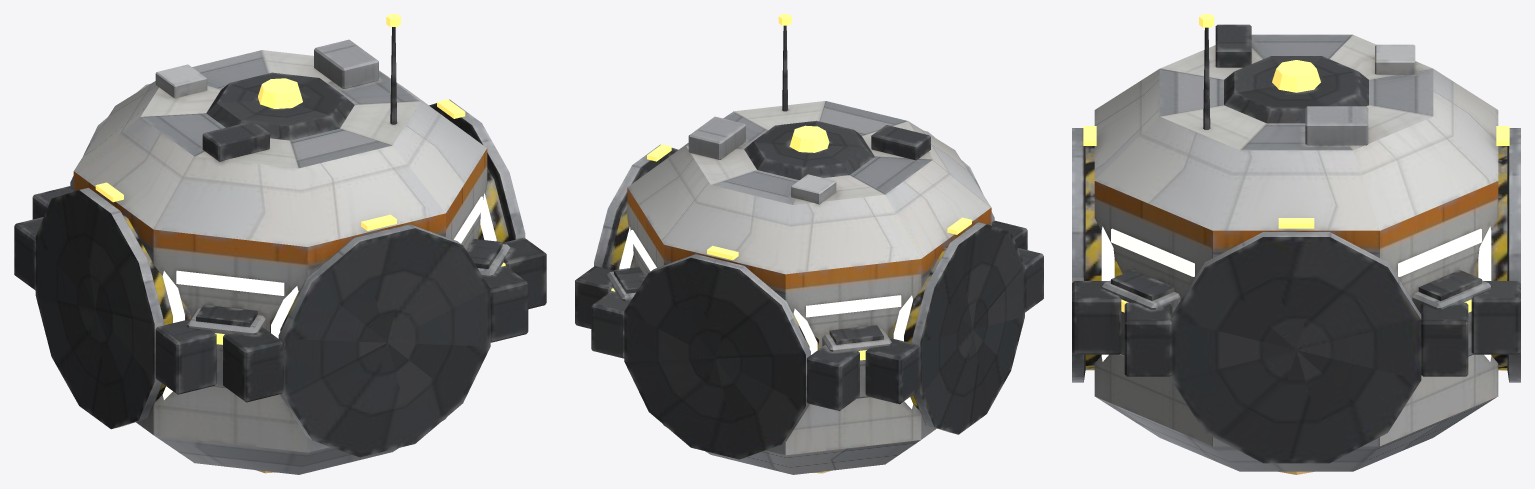
The model's file is corridor_junction.glb.
3 renders of one model, left to right at view 1: azimuth 30°, elevation 25°; view 2: azimuth 150°, elevation 25°; view 3: azimuth 270°, elevation 25°, orthographic. The views are drawn at different scales.
Visible parts, largest first — view 1: corridor_junction_mesh; view 2: corridor_junction_mesh; view 3: corridor_junction_mesh.
Boxes of the visible parts, x1=… form: corridor_junction_mesh: x1=14, y1=14, x2=546, y2=474; corridor_junction_mesh: x1=575, y1=14, x2=1043, y2=474; corridor_junction_mesh: x1=1072, y1=14, x2=1520, y2=474.
Size of the model in its own units: 10 by 11.5 by 10.
Materials: 3 (1 with a texture image).
